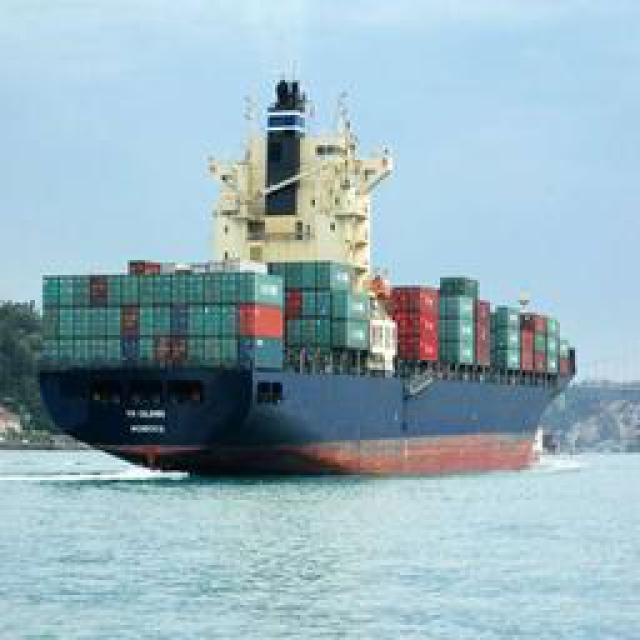Ship: (36, 50, 564, 473)
